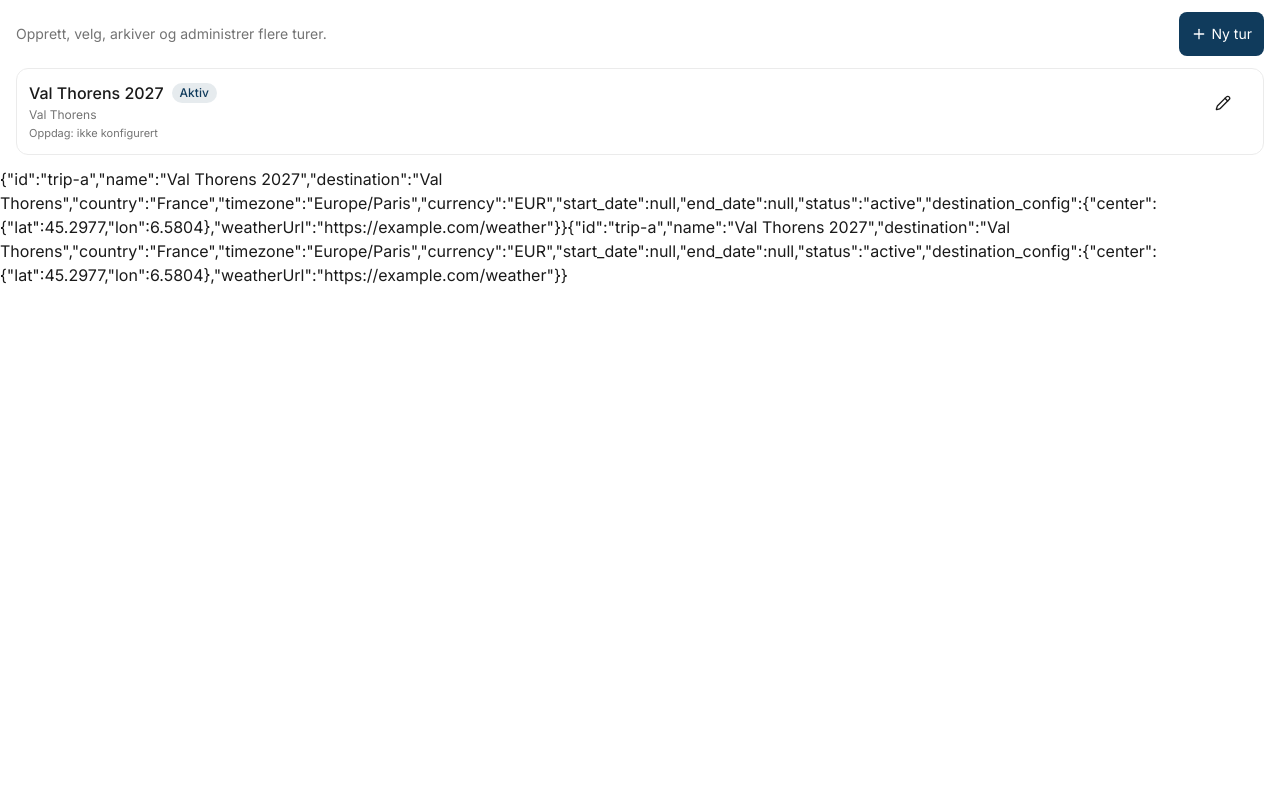
Test: faktisk turlagring gjennom AdminTrips og TripProvider › bevarer et utfylt skjema mens turene oppdateres i bakgrunnen
Later steps or results of the test are not shown.
Click the button named "Rediger tur" at (1229, 103), box 1207,81 -> 1251,125
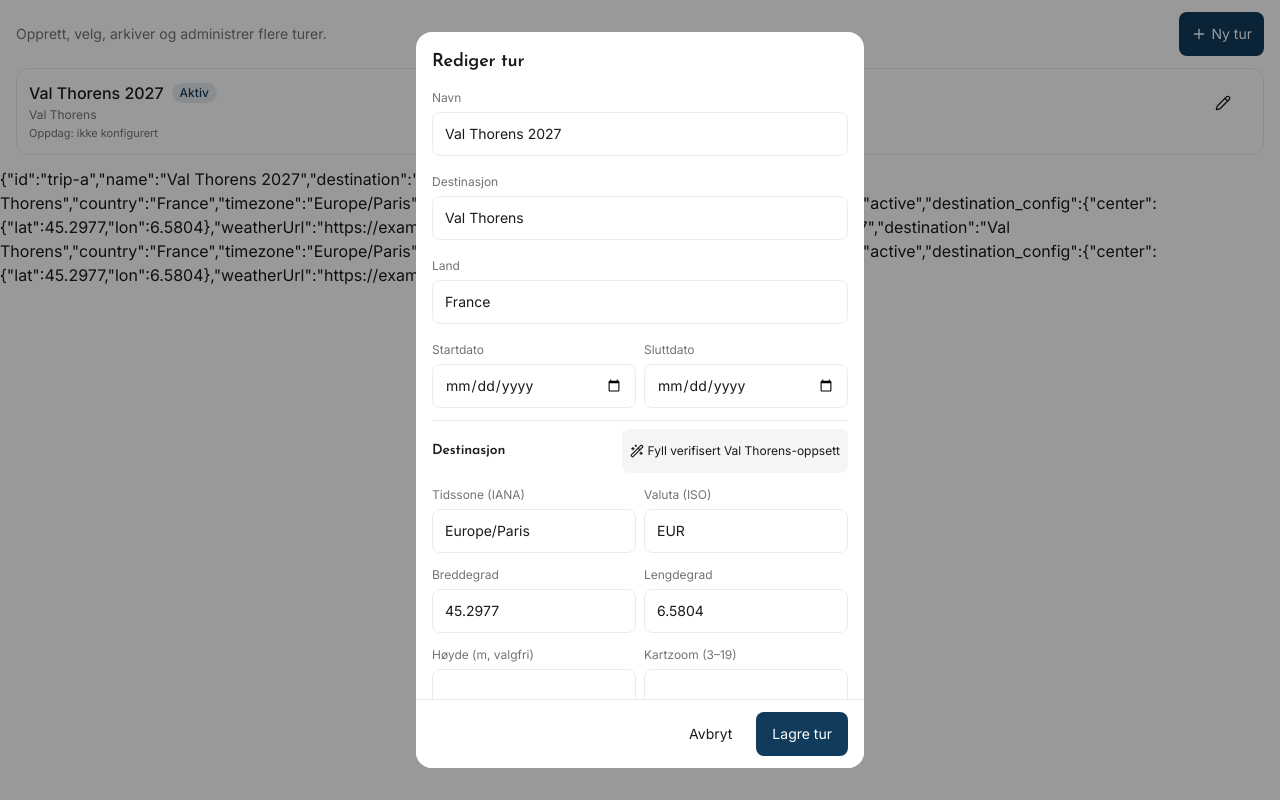
Type "2027-02-10" into the date field labelled "Startdato" at (534, 386), box 432,364 -> 636,408
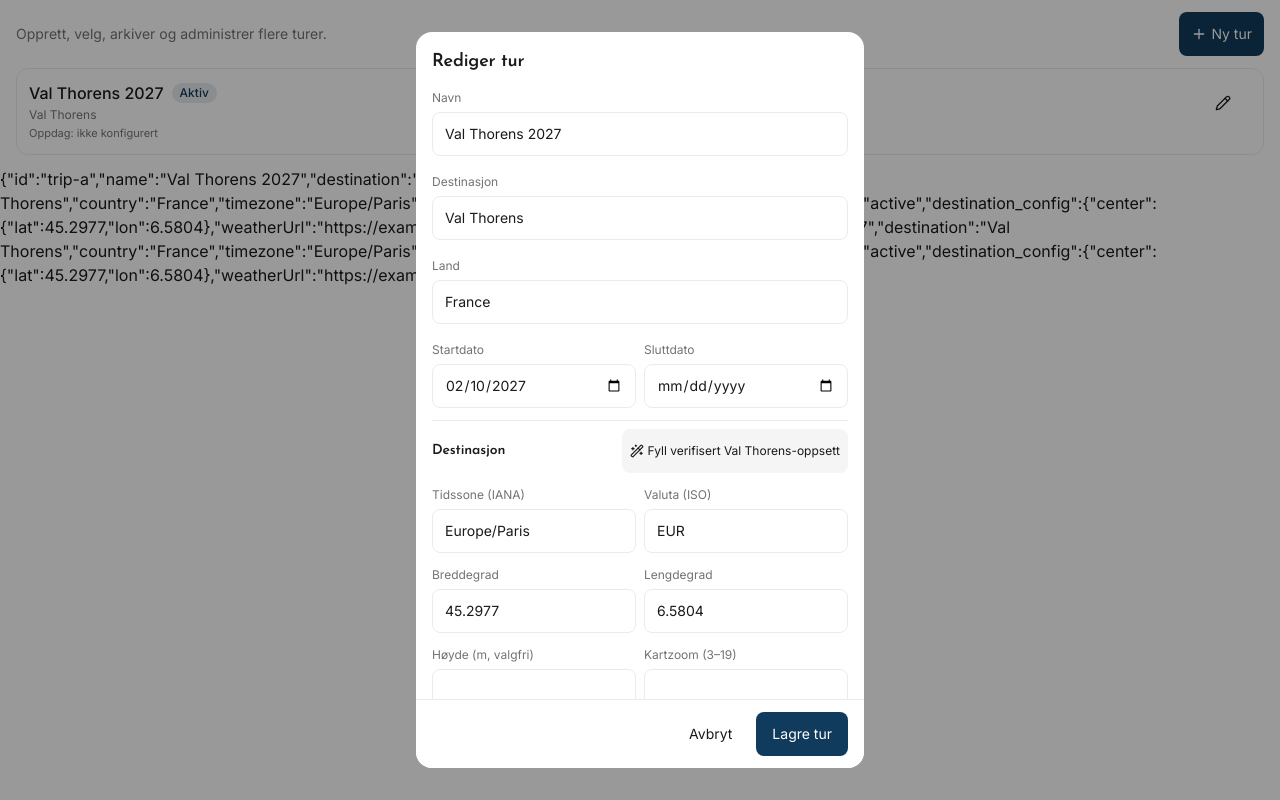
Type "2027-02-17" into the date field labelled "Sluttdato" at (746, 386), box 644,364 -> 848,408
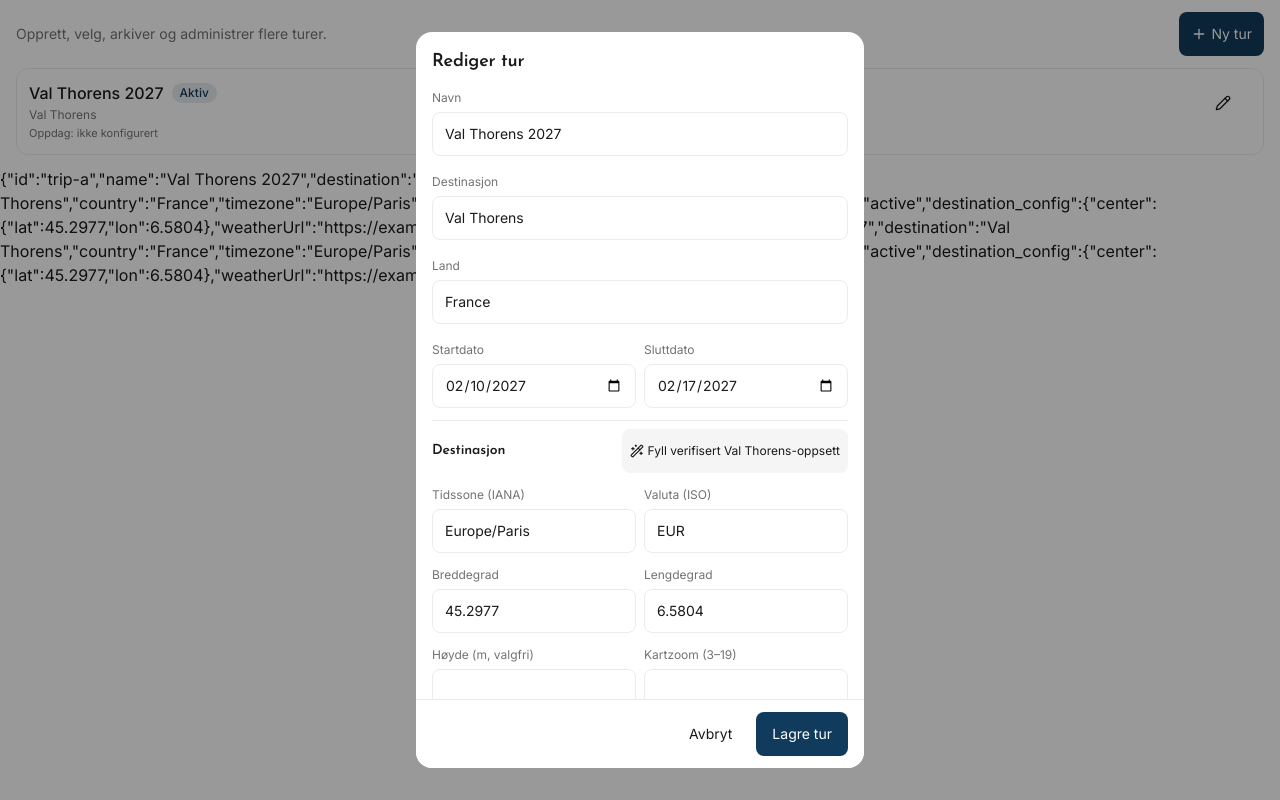
Result: the dialog is shown
